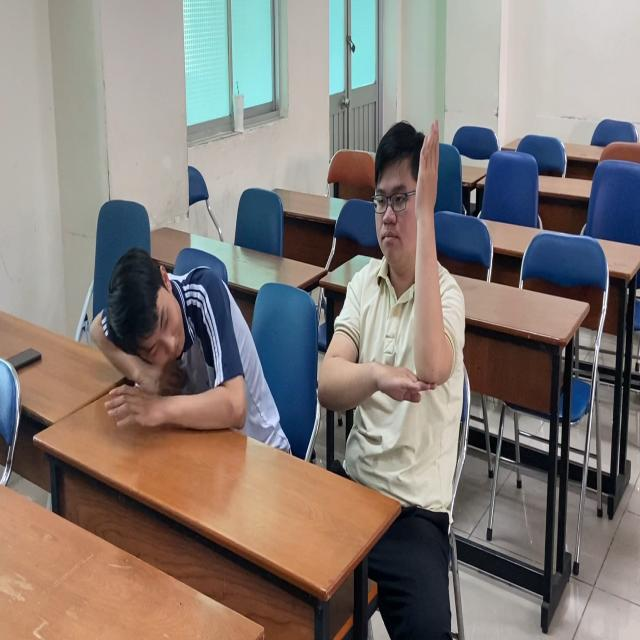raise_hand: (321, 109, 467, 514)
sleep: (85, 245, 294, 452)
